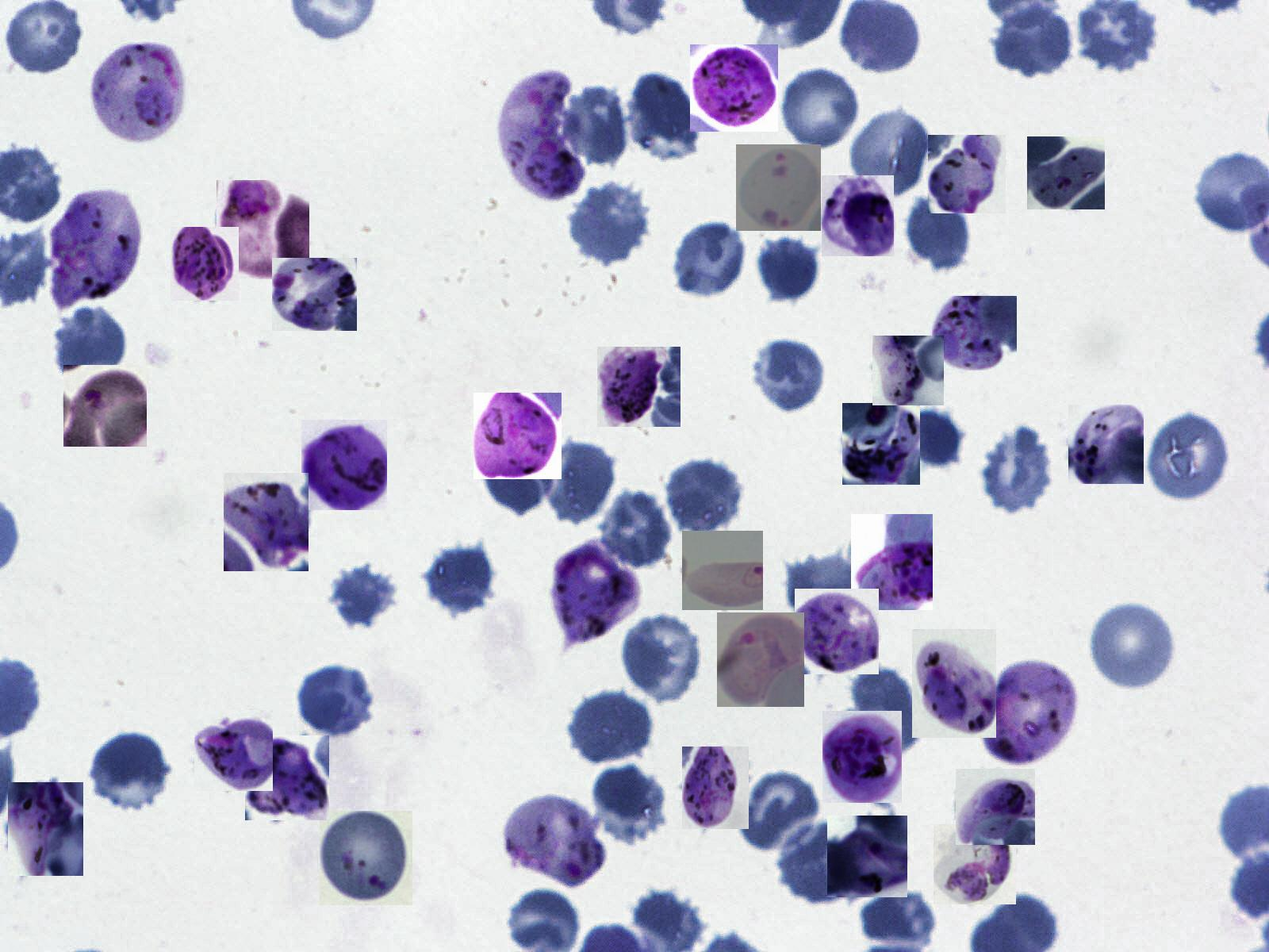Infected: (500, 68, 588, 204), (50, 186, 143, 304), (985, 658, 1078, 768), (499, 793, 604, 887), (91, 40, 185, 142), (912, 629, 996, 738), (217, 180, 309, 279), (549, 543, 634, 646), (320, 811, 412, 905), (224, 473, 309, 571), (717, 612, 804, 707), (851, 514, 933, 610), (690, 44, 778, 132), (301, 420, 387, 510), (473, 393, 562, 479), (736, 144, 821, 231), (822, 711, 902, 803), (245, 735, 329, 820), (795, 589, 879, 674), (9, 782, 83, 876), (63, 365, 147, 447), (597, 347, 681, 427), (934, 824, 1016, 904), (827, 816, 907, 897), (682, 531, 763, 610), (194, 710, 273, 791), (842, 403, 920, 485), (932, 296, 1017, 370), (272, 258, 357, 331), (928, 135, 1006, 213), (1068, 405, 1144, 484), (956, 769, 1035, 845), (822, 175, 894, 256), (1027, 136, 1105, 209), (682, 747, 749, 829), (171, 227, 239, 301), (872, 336, 944, 405)
Uninfected: (1088, 600, 1178, 693), (1147, 411, 1233, 505), (619, 610, 704, 704), (851, 104, 933, 199), (87, 728, 173, 817), (845, 668, 926, 761), (780, 820, 868, 905), (737, 769, 822, 856), (780, 67, 865, 152), (590, 762, 671, 850), (631, 69, 706, 164), (980, 422, 1052, 520), (569, 180, 650, 267), (568, 688, 654, 767), (476, 430, 554, 514), (987, 5, 1074, 80), (56, 305, 130, 393), (596, 488, 675, 569), (543, 436, 612, 528), (665, 459, 744, 538), (674, 220, 750, 301), (750, 336, 828, 414), (424, 539, 500, 618), (297, 666, 379, 739), (563, 83, 631, 171), (6, 0, 86, 74), (906, 192, 974, 273), (783, 551, 853, 627), (753, 233, 823, 307), (328, 562, 400, 630), (903, 408, 967, 469)
